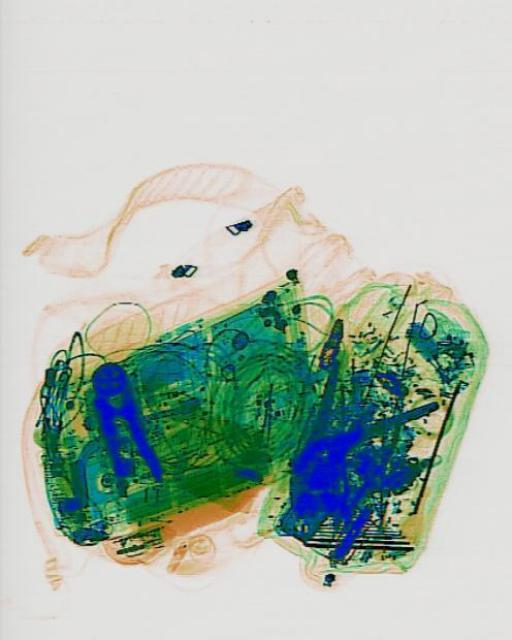Pliers: (79, 353, 163, 495)
